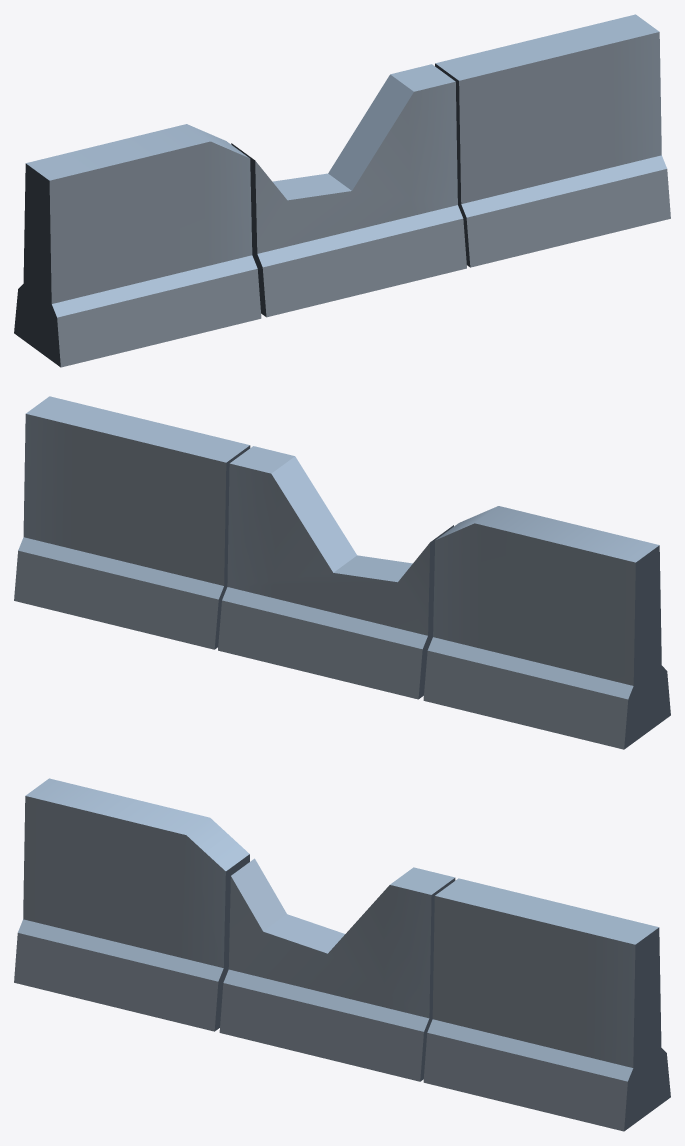
File: Wall5.fbx
3 views of the same model, one above another, from view 1: azimuth 30°, elevation 25°; view 2: azimuth 150°, elevation 25°; view 3: azimuth 330°, elevation 25° (orthographic).
Parts seen in each view (by area): view 1: Wall5; view 2: Wall5; view 3: Wall5.
Part boxes in pixels (left/top/right/bottom): Wall5: left=14, top=14, right=670, bottom=367; Wall5: left=14, top=396, right=670, bottom=749; Wall5: left=14, top=778, right=670, bottom=1131.
Size of the model in its own units: 322 by 90.17 by 42.89.
